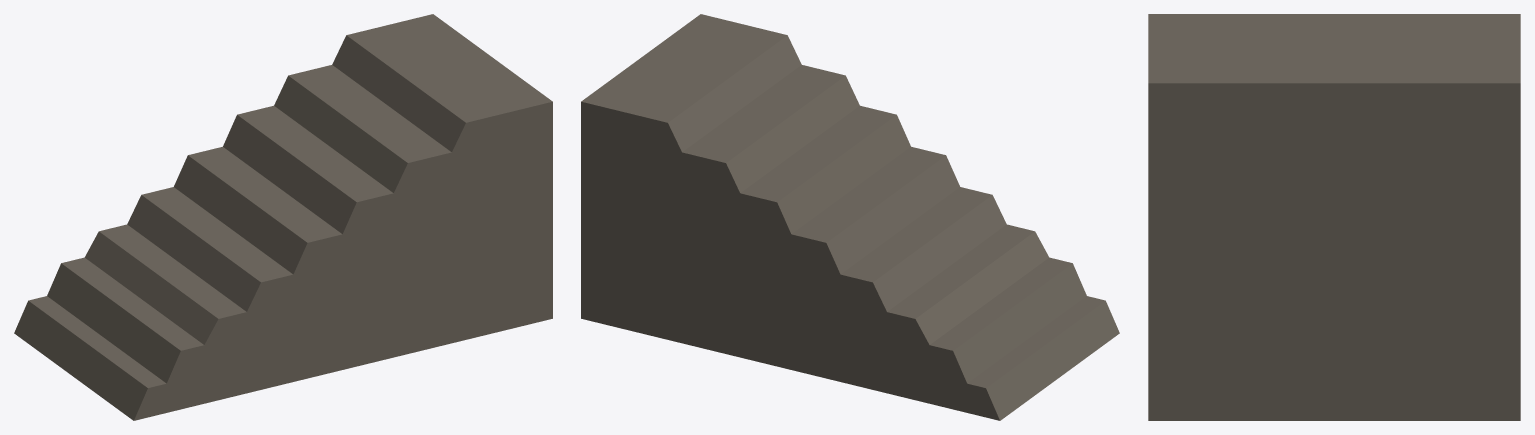
Rendered from RuinStairs03.fbx.
The picture shows the model from 3 angles, left to right: view 1: azimuth 30°, elevation 25°; view 2: azimuth 150°, elevation 25°; view 3: azimuth 270°, elevation 25°; orthographic projection. The views are drawn at different scales.
Parts seen in each view (by area): view 1: RuinStairs03; view 2: RuinStairs03; view 3: RuinStairs03.
Part boxes in pixels (<box>): RuinStairs03: <box>14,14,552,420</box>; RuinStairs03: <box>581,14,1119,420</box>; RuinStairs03: <box>1148,14,1520,420</box>.
Size of the model in its own units: 200 by 200 by 404.
